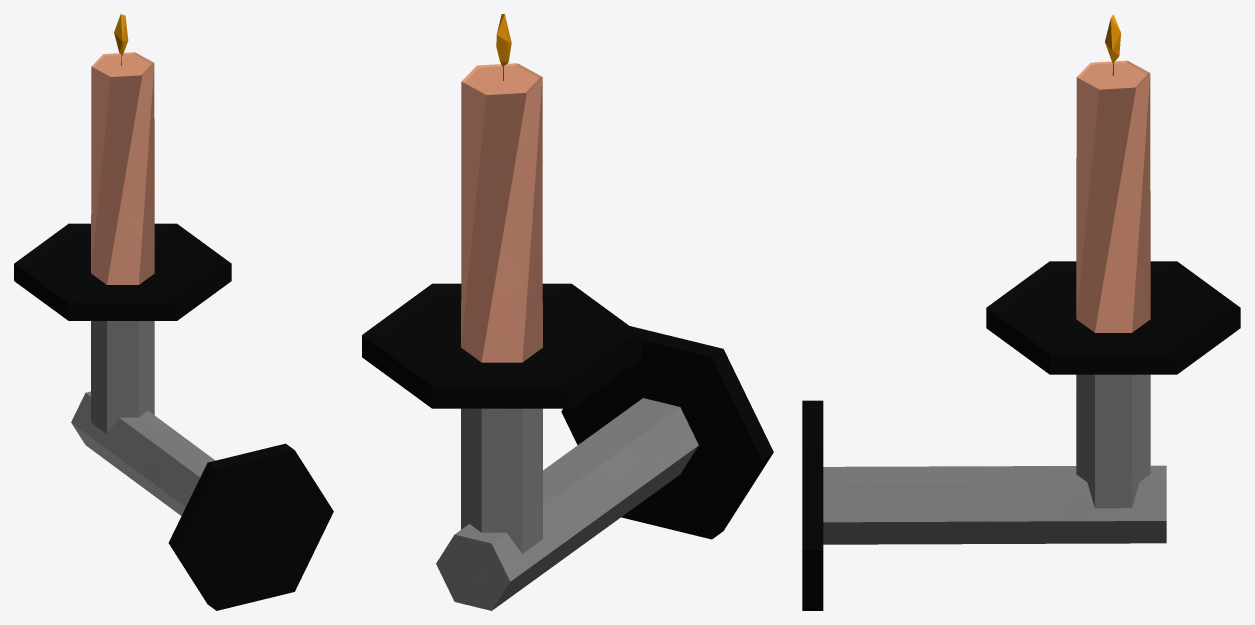
File: Candle_4.fbx
The picture shows the model from 3 angles, left to right: view 1: azimuth 30°, elevation 25°; view 2: azimuth 150°, elevation 25°; view 3: azimuth 270°, elevation 25°; orthographic projection. The views are drawn at different scales.
Parts seen in each view (by area): view 1: Candle 4; view 2: Candle 4; view 3: Candle 4.
Part boxes in pixels (x1,y1,x2,y2): Candle 4: (14,14,333,610); Candle 4: (362,14,773,610); Candle 4: (802,14,1240,610).
Size of the model in its own units: 17.71 by 50.86 by 35.24.
